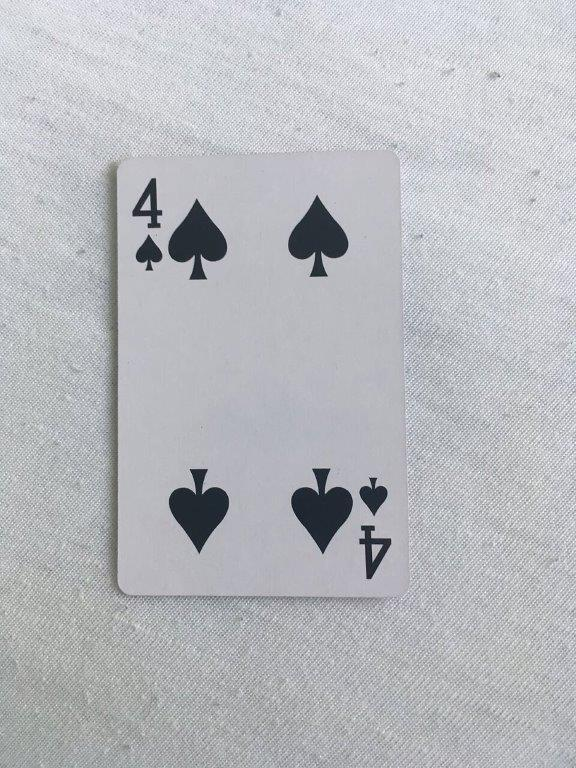4S: (112, 147, 413, 602)
